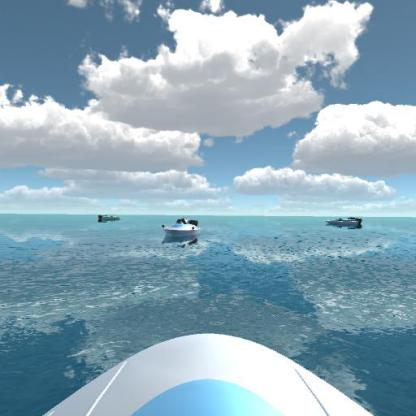usv0: (94, 210, 122, 226)
usv1: (158, 214, 202, 247), (324, 212, 365, 231)
